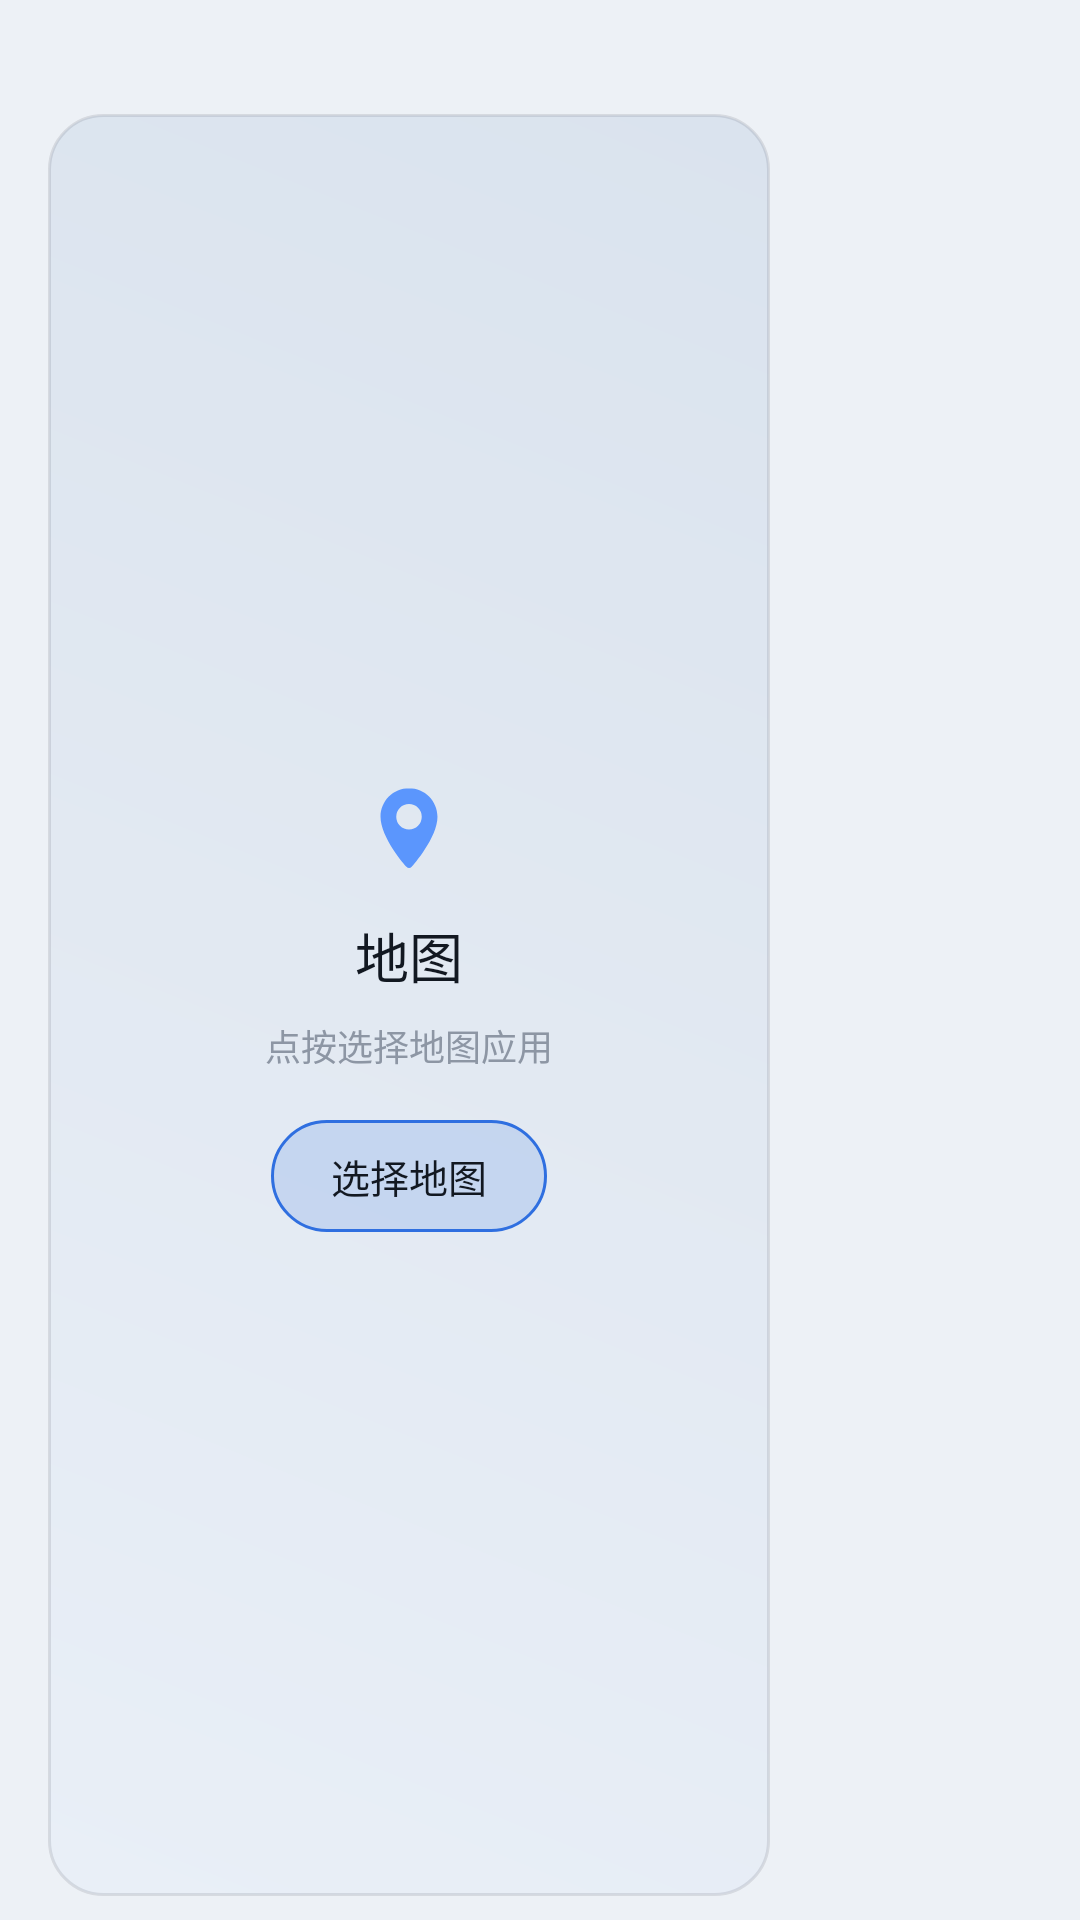

Point at icon controls on the screen. Image size 1080px×1920px, points as (x,y).
map pin: (409,828)
